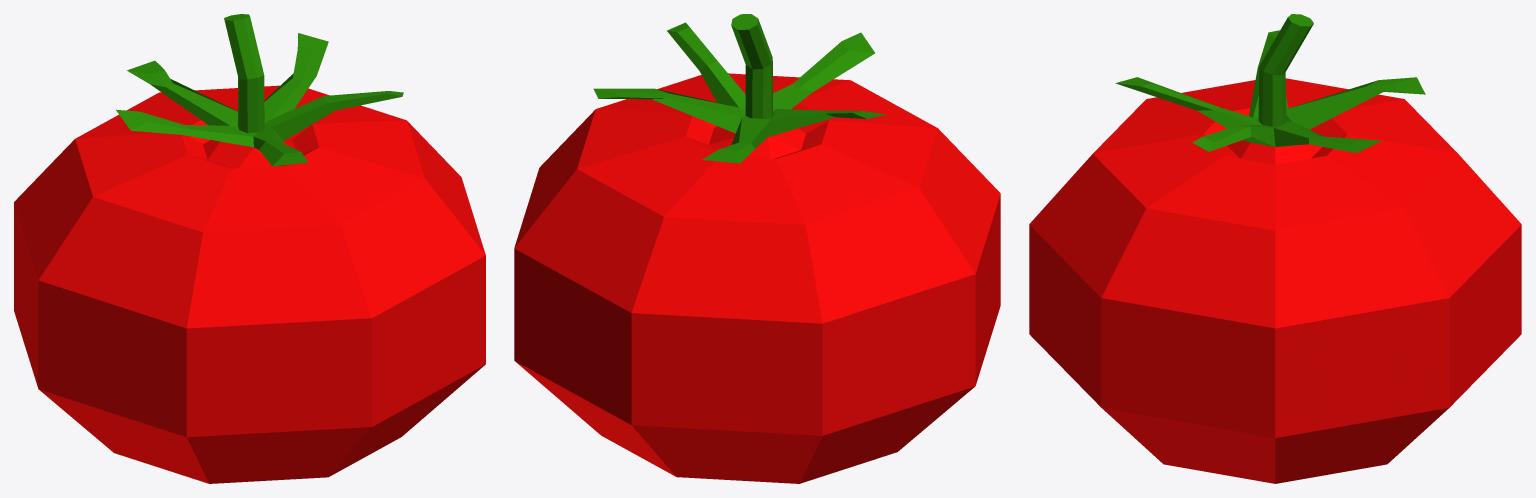
Rendered from tomato01.gltf.
The picture shows the model from 3 angles, left to right: view 1: azimuth 30°, elevation 25°; view 2: azimuth 150°, elevation 25°; view 3: azimuth 270°, elevation 25°; orthographic projection. The views are drawn at different scales.
Parts seen in each view (by area): view 1: Cylinder; view 2: Cylinder; view 3: Cylinder.
Part boxes in pixels (<box>): Cylinder: <box>14,14,485,483</box>; Cylinder: <box>514,14,1000,483</box>; Cylinder: <box>1029,14,1521,483</box>.
Size of the model in its own units: 0.0472 by 0.0453 by 0.0472.
1 material, 1 textured.
